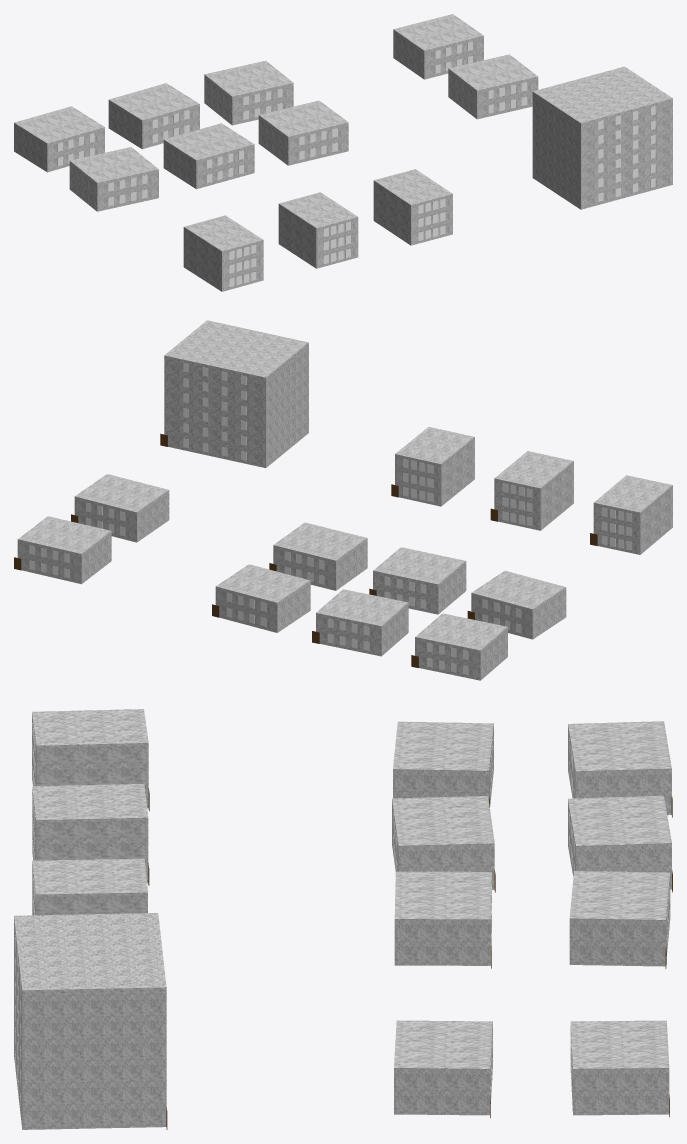
Rendered from bld_mlmoh4mm_rpvidi7.glb.
3 renders of one model, top to bottom at view 1: azimuth 30°, elevation 25°; view 2: azimuth 150°, elevation 25°; view 3: azimuth 270°, elevation 25°, orthographic. The views are drawn at different scales.
Visible parts, largest first — view 1: building-building-1771095396251-19, building-building-1771095396251-15, building-building-1771095396251-16, building-building-1771095396251-17, building-building-1771095396251-6, building-building-1771095396251-7, building-building-1771095396251-5, building-building-1771095396251-1, building-building-1771095396251-9, building-building-1771095396251-0, building-building-1771095396251-4, building-building-1771095396251-2; view 2: building-building-1771095396251-19, building-building-1771095396251-16, building-building-1771095396251-2, building-building-1771095396251-17, building-building-1771095396251-15, building-building-1771095396251-4, building-building-1771095396251-0, building-building-1771095396251-1, building-building-1771095396251-5, building-building-1771095396251-9, building-building-1771095396251-7, building-building-1771095396251-6; view 3: building-building-1771095396251-19, building-building-1771095396251-2, building-building-1771095396251-4, building-building-1771095396251-9, building-building-1771095396251-7, building-building-1771095396251-15, building-building-1771095396251-16, building-building-1771095396251-0, building-building-1771095396251-1, building-building-1771095396251-6, building-building-1771095396251-5, building-building-1771095396251-17.
Part boxes in pixels (left/top/right/bottom): building-building-1771095396251-19: left=532, top=66, right=672, bottom=209; building-building-1771095396251-15: left=183, top=215, right=263, bottom=291; building-building-1771095396251-16: left=278, top=192, right=358, bottom=268; building-building-1771095396251-17: left=373, top=169, right=452, bottom=245; building-building-1771095396251-6: left=163, top=123, right=254, bottom=189; building-building-1771095396251-7: left=258, top=100, right=348, bottom=165; building-building-1771095396251-5: left=69, top=147, right=158, bottom=211; building-building-1771095396251-1: left=108, top=83, right=199, bottom=149; building-building-1771095396251-9: left=448, top=54, right=538, bottom=119; building-building-1771095396251-0: left=14, top=106, right=104, bottom=172; building-building-1771095396251-4: left=393, top=14, right=483, bottom=79; building-building-1771095396251-2: left=204, top=60, right=293, bottom=125; building-building-1771095396251-19: left=160, top=320, right=308, bottom=467; building-building-1771095396251-16: left=490, top=451, right=573, bottom=530; building-building-1771095396251-2: left=212, top=564, right=310, bottom=632; building-building-1771095396251-17: left=391, top=427, right=474, bottom=506; building-building-1771095396251-15: left=590, top=475, right=672, bottom=554; building-building-1771095396251-4: left=14, top=516, right=111, bottom=584; building-building-1771095396251-0: left=411, top=613, right=507, bottom=680; building-building-1771095396251-1: left=312, top=589, right=408, bottom=656; building-building-1771095396251-5: left=467, top=570, right=566, bottom=639; building-building-1771095396251-9: left=71, top=474, right=169, bottom=542; building-building-1771095396251-7: left=269, top=522, right=367, bottom=590; building-building-1771095396251-6: left=369, top=547, right=466, bottom=614; building-building-1771095396251-19: left=14, top=913, right=167, bottom=1129; building-building-1771095396251-2: left=569, top=871, right=670, bottom=968; building-building-1771095396251-4: left=570, top=1020, right=669, bottom=1117; building-building-1771095396251-9: left=394, top=1020, right=492, bottom=1118; building-building-1771095396251-7: left=394, top=871, right=491, bottom=968; building-building-1771095396251-15: left=32, top=709, right=149, bottom=811; building-building-1771095396251-16: left=32, top=784, right=149, bottom=885; building-building-1771095396251-0: left=568, top=721, right=672, bottom=817; building-building-1771095396251-1: left=568, top=795, right=672, bottom=892; building-building-1771095396251-6: left=392, top=796, right=495, bottom=892; building-building-1771095396251-5: left=393, top=721, right=493, bottom=807; building-building-1771095396251-17: left=32, top=858, right=147, bottom=915.
Bounding box in the file's own units: 107 × 19.23 × 82.12.
Materials: 60 (12 with a texture image).
